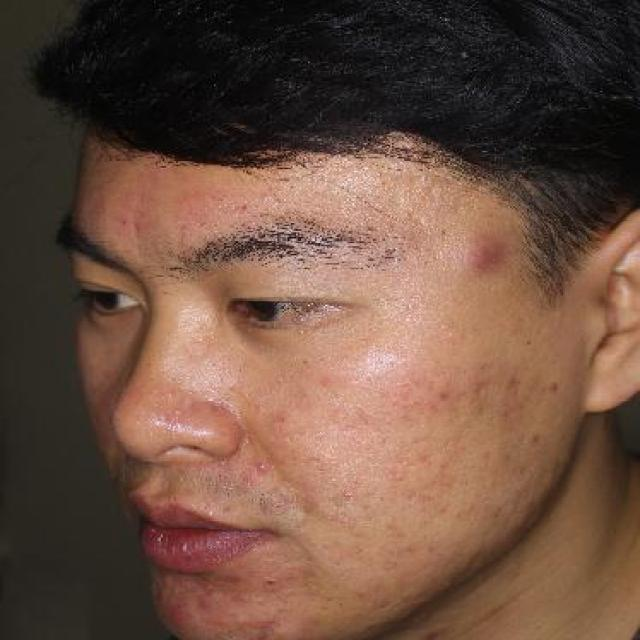dark spot: (328, 483, 358, 505), (435, 386, 460, 406)
nodules: (450, 232, 510, 277)
pustules: (200, 582, 219, 598)
whiteheads: (240, 454, 274, 480)
